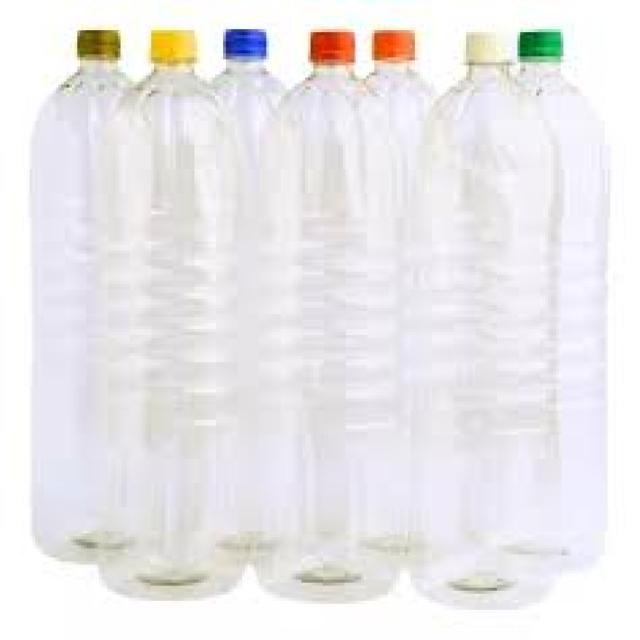bottom: (413, 546, 558, 608), (98, 545, 253, 600), (260, 547, 397, 603), (33, 504, 102, 560), (563, 514, 606, 561)
neck: (427, 29, 553, 135), (38, 31, 130, 133), (276, 25, 374, 120), (524, 22, 598, 135), (133, 32, 215, 121), (203, 23, 284, 113), (356, 29, 443, 97)
